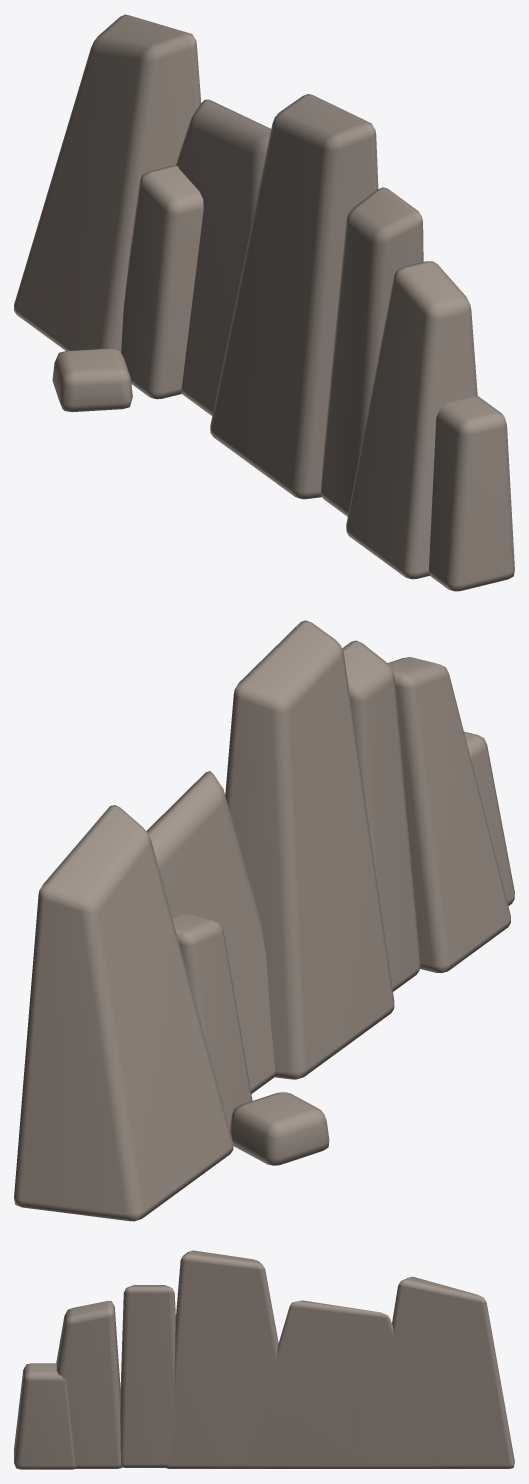
Rendered from Cliff_Rocks_02.fbx.
3 views of the same model, one above another, from view 1: azimuth 30°, elevation 25°; view 2: azimuth 150°, elevation 25°; view 3: azimuth 270°, elevation 25° (orthographic). The views are drawn at different scales.
Visible parts, largest first — view 1: Cliff_Rocks_02; view 2: Cliff_Rocks_02; view 3: Cliff_Rocks_02.
Part boxes in pixels (x1=…): Cliff_Rocks_02: x1=14, y1=14, x2=514, y2=591; Cliff_Rocks_02: x1=14, y1=620, x2=514, y2=1221; Cliff_Rocks_02: x1=14, y1=1250, x2=514, y2=1469.
Size of the model in its own units: 49.49 by 97.77 by 206.
